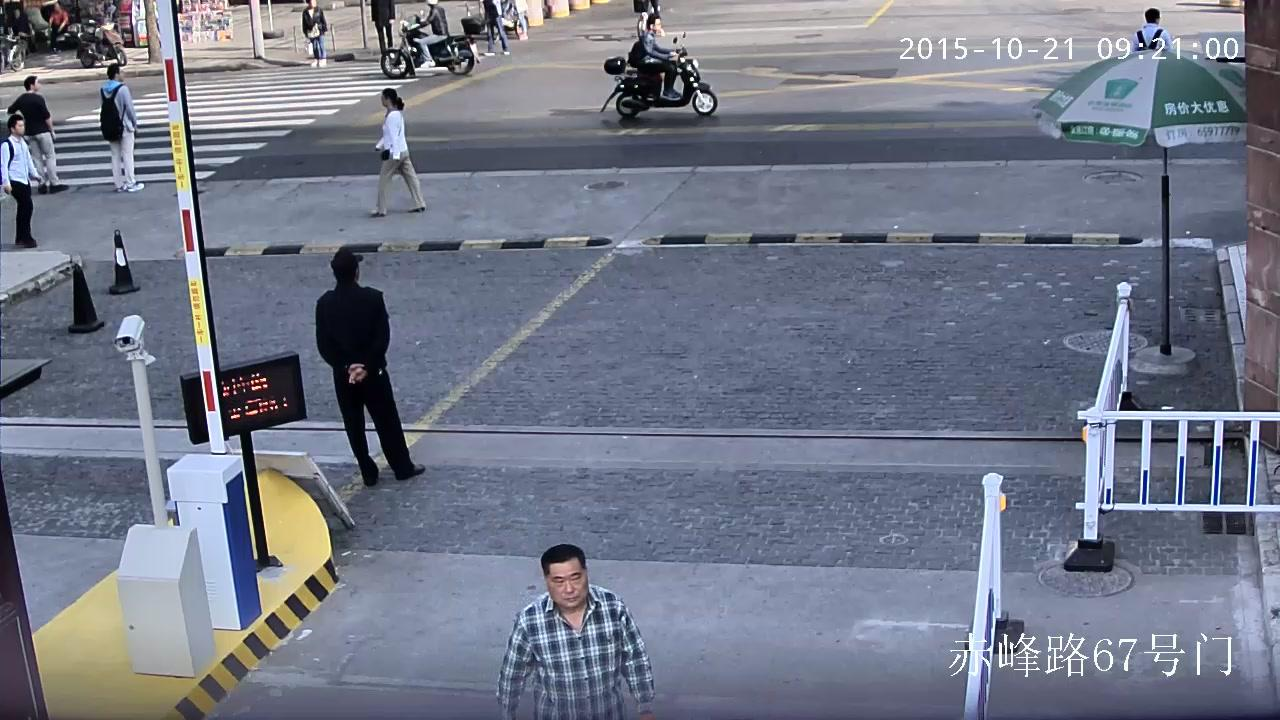face: (549, 558, 588, 607), (13, 120, 24, 134), (653, 17, 660, 31), (117, 67, 124, 81), (33, 78, 40, 89), (381, 95, 387, 107), (53, 2, 59, 11), (14, 9, 19, 17), (311, 0, 316, 7)
